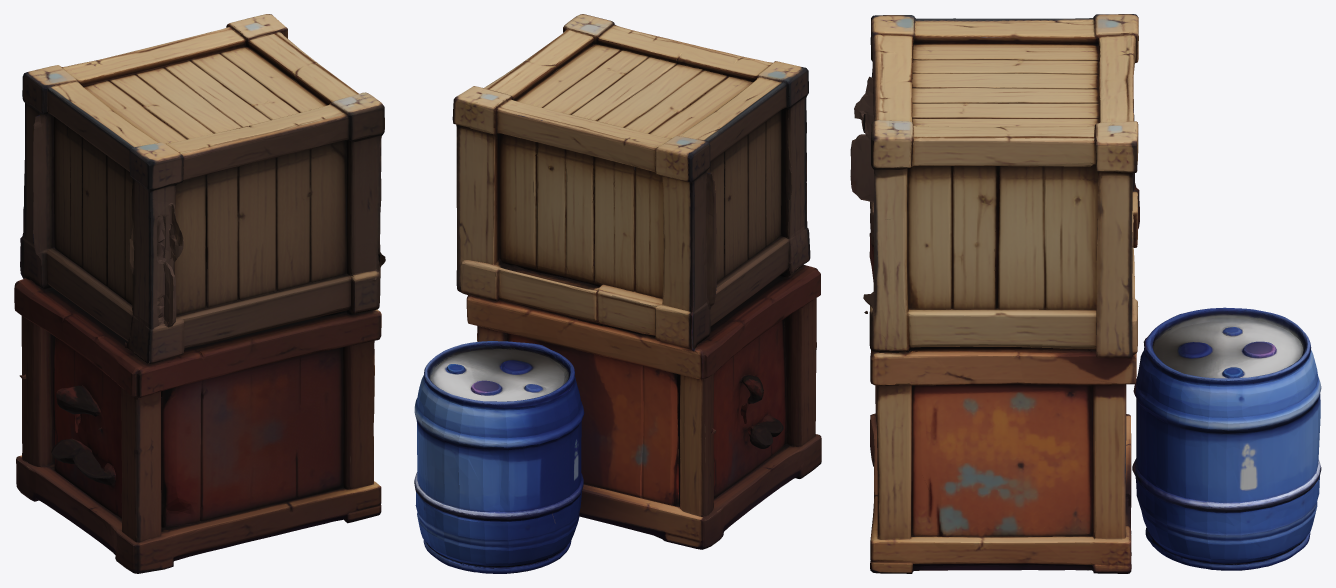
The model's file is crates_barrels.glb.
The picture shows the model from 3 angles, left to right: view 1: azimuth 30°, elevation 25°; view 2: azimuth 150°, elevation 25°; view 3: azimuth 270°, elevation 25°; orthographic projection. The views are drawn at different scales.
Visible parts, largest first — view 1: world; view 2: world; view 3: world.
Part boxes in pixels (<box>): world: <box>14,14,385,573</box>; world: <box>414,14,821,573</box>; world: <box>850,14,1321,573</box>.
Bounding box in the file's own units: 0.6985 × 1 × 0.9689.
1 material, 1 textured.
